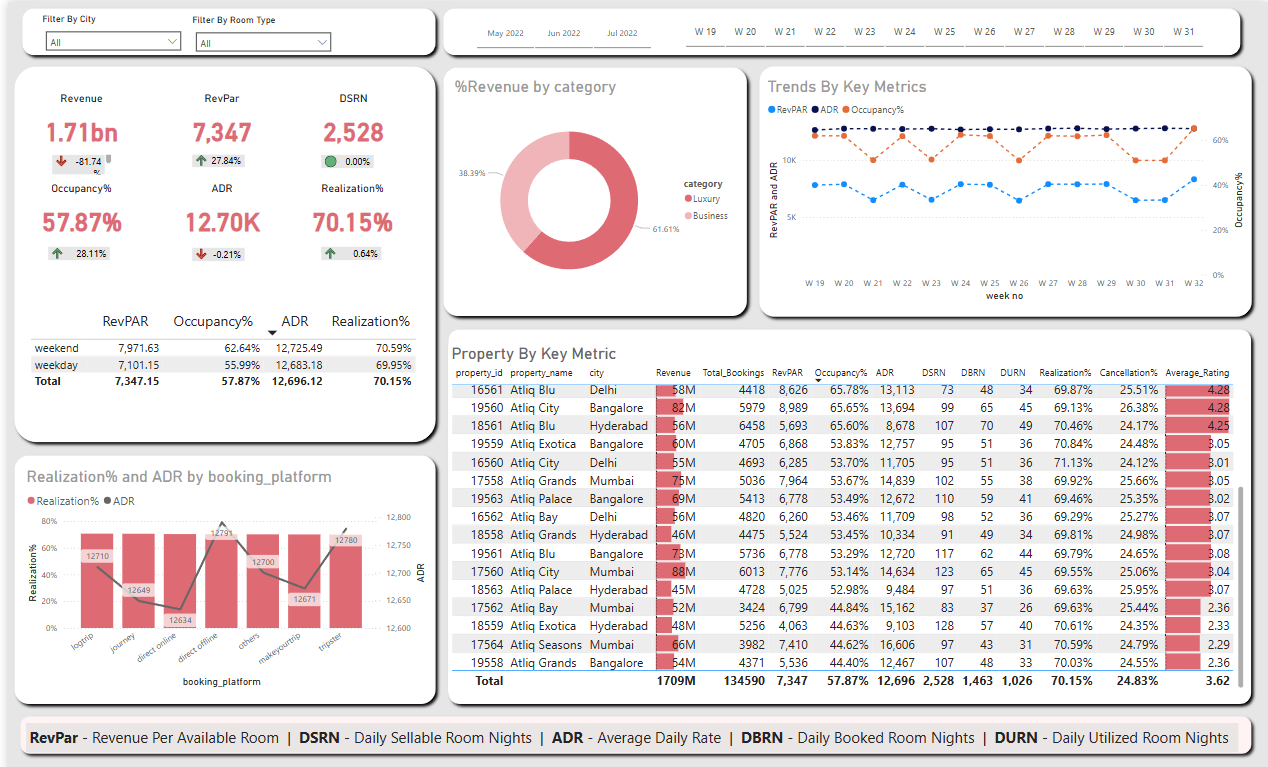

This screenshot's page, from the dashboard's own definition file:
{"tool":"powerbi","page":{"name":"Page 1","canvas":[1800,1100],"ordinal":0},"visuals":[{"type":"shape","box":[1064.3,82.9,721.4,375.7],"z":0},{"type":"tableEx","fields":{"Values":["key_measures_table.ADR WoW change %"]},"box":[258.1,306.4,95.7,77.1],"z":0,"group":"g5"},{"type":"tableEx","fields":{"Values":["key_measures_table.Occupancy WoW change %"]},"box":[52.2,305,108.6,85.7],"z":1000,"group":"g4"},{"type":"tableEx","fields":{"Values":["key_measures_table.Realisation WoW change %"]},"box":[442.1,306.1,107.1,84.3],"z":1000,"group":"g6"},{"type":"shape","box":[620,458.3,1165,553.3],"z":1000},{"type":"shape","box":[613.3,85,451.7,373.3],"z":2000},{"type":"tableEx","fields":{"Values":["key_measures_table.Revpar WoW change %"]},"box":[258.1,172.4,95.7,77.1],"z":2000,"group":"g2"},{"type":"tableEx","fields":{"Values":["key_measures_table.DSRN WoW change %"]},"box":[441.4,174.3,95.7,77.1],"z":3000,"group":"g3"},{"type":"shape","box":[0,638.3,620,373.3],"z":3000},{"type":"shape","box":[0,83.3,620,555],"z":4000},{"type":"shape","box":[613.3,0,1156.7,85],"z":5000},{"type":"tableEx","fields":{"Values":["key_measures_table.Revenue_WoW_change%"]},"box":[57.4,173.8,95.7,77.1],"z":5000,"group":"g1"},{"type":"shape","box":[11.7,0,608.3,85],"z":6000},{"type":"tableEx","title":"Property By Key Metric","fields":{"Values":["dim_hotels.property_id","dim_hotels.property_name","dim_hotels.city","key_measures_table.Revenue","key_measures_table.Total_Bookings","key_measures_table.RevPAR","key_measures_table.Occupancy%","key_measures_table.ADR","key_measures_table.DSRN","key_measures_table.DBRN","key_measures_table.DURN","key_measures_table.Realization%"]},"box":[628.3,488.3,1141.7,496.7],"z":7000},{"type":"slicer","title":"Filter By City","fields":{"Values":["dim_hotels.city"]},"box":[45,16.7,213.3,53.3],"z":8000},{"type":"card","title":"ADR","fields":{"Values":["key_measures_table.ADR"]},"box":[211.7,255,188.6,91.4],"z":8000,"group":"g5"},{"type":"slicer","title":"Filter By Room Type","fields":{"Values":["dim_rooms.room_class"]},"box":[258.3,18.3,213.3,53.3],"z":9000},{"type":"card","title":"Realization%","fields":{"Values":["key_measures_table.Realization%"]},"box":[398.6,255.7,187.1,91.4],"z":9000,"group":"g6"},{"type":"slicer","fields":{"Values":["dim_date.mmm yy"]},"box":[645,15,298.3,56.7],"z":10000},{"type":"slicer","fields":{"Values":["dim_date.week no"]},"box":[943.3,13.3,788.3,58.3],"z":11000},{"type":"card","title":"Revenue","fields":{"Values":["key_measures_table.Revenue"]},"box":[11.7,126.7,187.1,91.4],"z":11000,"group":"g1"},{"type":"donutChart","title":"%Revenue by category","fields":{"Category":["dim_hotels.category"],"Y":["key_measures_table.Revenue"]},"box":[633.3,106.7,411.7,326.7],"z":12000},{"type":"lineChart","title":"Trends By Key Metrics","fields":{"Category":["dim_date.mmm yy.Variation.Date Hierarchy.Month","dim_date.week no"],"Y":["key_measures_table.RevPAR","key_measures_table.ADR"],"Y2":["key_measures_table.Occupancy%"]},"box":[1080,107.1,690,325.7],"z":13000},{"type":"card","title":"RevPar","fields":{"Values":["key_measures_table.RevPAR"]},"box":[211.7,126.7,188.6,91.4],"z":13000,"group":"g2"},{"type":"card","title":"DSRN","fields":{"Values":["key_measures_table.DSRN"]},"box":[400,126.7,187.1,91.4],"z":14000,"group":"g3"},{"type":"lineStackedColumnComboChart","fields":{"Category":["fact_bookings.booking_platform"],"Y":["key_measures_table.Realization%"],"Y2":["key_measures_table.ADR"]},"box":[21.7,665,580,320],"z":14000},{"type":"card","title":"Occupancy%","fields":{"Values":["key_measures_table.Occupancy%"]},"box":[11.7,255,187.1,91.4],"z":15000,"group":"g4"},{"type":"tableEx","fields":{"Values":["dim_date.day_type","key_measures_table.RevPAR","key_measures_table.Occupancy%","key_measures_table.ADR","key_measures_table.Realization%"]},"box":[27.1,434.3,560,140],"z":15000},{"type":"group","id":"g1","title":"Group 1","box":[11.7,126.7,186.7,123.3],"z":16000},{"type":"group","id":"g2","title":"Group 2","box":[211.7,126.7,188.3,123.3],"z":17000},{"type":"group","id":"g3","title":"Group 3","box":[400,126.7,187.1,124.8],"z":18000},{"type":"group","id":"g4","title":"Group 4","box":[11.7,255,187.1,135.7],"z":19000},{"type":"group","id":"g5","title":"Group 5","box":[211.7,255,188.3,128.3],"z":20000},{"type":"group","id":"g6","title":"Group 6","box":[398.6,255.7,187.1,134.7],"z":21000},{"type":"shape","box":[8.3,1011.7,1776.7,71.7],"z":22000},{"type":"textbox","box":[25,1030,1731.7,41.7],"z":23000}]}

Visuals, with their boxes in screenshot pixels (x1, y1, x2, y2), scaled from the page's 1800x1100 canvas onto the 1268x767 screenshot:
shape: bbox=(750, 58, 1258, 320)
tableEx - key_measures_table.ADR WoW change %: bbox=(182, 214, 249, 267)
tableEx - key_measures_table.Occupancy WoW change %: bbox=(37, 213, 113, 272)
tableEx - key_measures_table.Realisation WoW change %: bbox=(311, 213, 387, 272)
shape: bbox=(437, 320, 1257, 705)
shape: bbox=(432, 59, 750, 320)
tableEx - key_measures_table.Revpar WoW change %: bbox=(182, 120, 249, 174)
tableEx - key_measures_table.DSRN WoW change %: bbox=(311, 122, 378, 175)
shape: bbox=(0, 445, 437, 705)
shape: bbox=(0, 58, 437, 445)
shape: bbox=(432, 0, 1247, 59)
tableEx - key_measures_table.Revenue_WoW_change%: bbox=(40, 121, 108, 175)
shape: bbox=(8, 0, 437, 59)
"Property By Key Metric" tableEx: bbox=(443, 340, 1247, 687)
"Filter By City" slicer: bbox=(32, 12, 182, 49)
"ADR" card: bbox=(149, 178, 282, 242)
"Filter By Room Type" slicer: bbox=(182, 13, 332, 50)
"Realization%" card: bbox=(281, 178, 413, 242)
slicer - dim_date.mmm yy: bbox=(454, 10, 665, 50)
slicer - dim_date.week no: bbox=(665, 9, 1220, 50)
"Revenue" card: bbox=(8, 88, 140, 152)
"%Revenue by category" donutChart: bbox=(446, 74, 736, 302)
"Trends By Key Metrics" lineChart: bbox=(761, 75, 1247, 302)
"RevPar" card: bbox=(149, 88, 282, 152)
"DSRN" card: bbox=(282, 88, 414, 152)
lineStackedColumnComboChart - fact_bookings.booking_platform x key_measures_table.Realization%: bbox=(15, 464, 424, 687)
"Occupancy%" card: bbox=(8, 178, 140, 242)
tableEx - dim_date.day_type x key_measures_table.RevPAR: bbox=(19, 303, 414, 400)
"Group 1" group: bbox=(8, 88, 140, 174)
"Group 2" group: bbox=(149, 88, 282, 174)
"Group 3" group: bbox=(282, 88, 414, 175)
"Group 4" group: bbox=(8, 178, 140, 272)
"Group 5" group: bbox=(149, 178, 282, 267)
"Group 6" group: bbox=(281, 178, 413, 272)
shape: bbox=(6, 705, 1257, 755)
textbox: bbox=(18, 718, 1237, 747)
